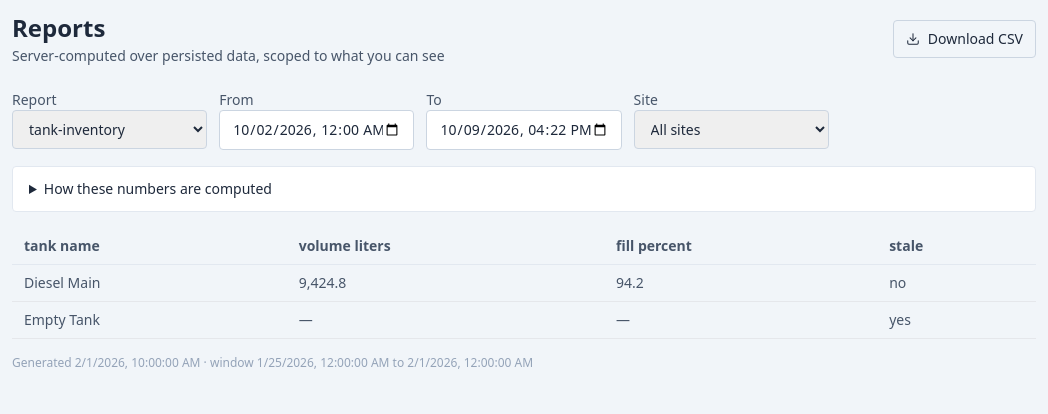
Test: ReportsPage › surfaces the report assumptions instead of hiding the arithmetic
Expected: the text "Diesel Main" is shown, [12,265,287,302]
What coordinates should you click on to do the following:
click the heading "How these numbers are computed"
I would click on:
 (158, 188)
Its box is [44,179,272,198].
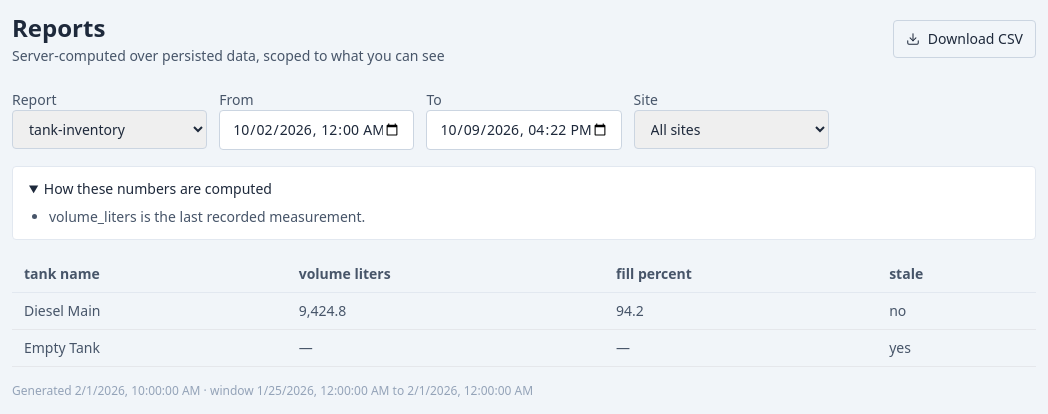
Now the list item "volume_liters is the last recorded measurement." is shown, box [49,207,365,226]
